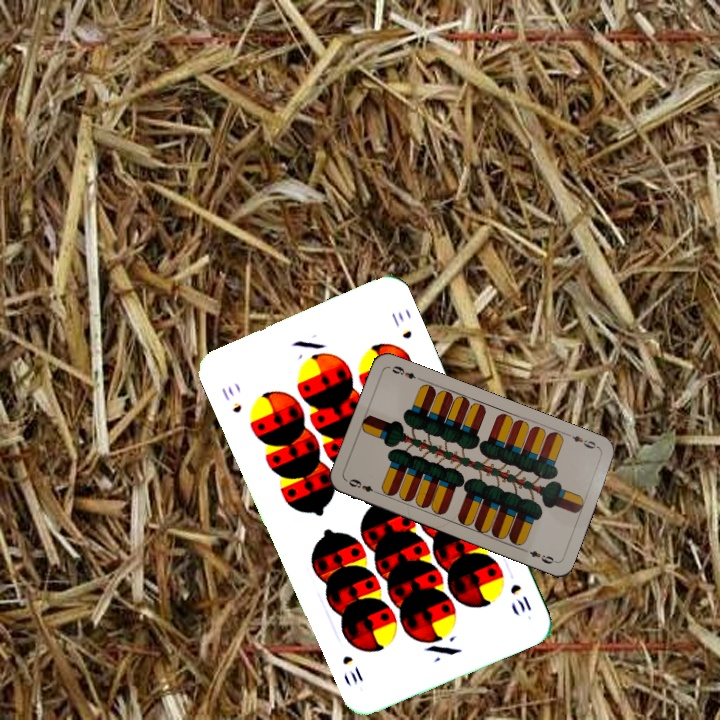E9: (343, 475, 382, 497), (563, 430, 602, 451)
S10: (506, 579, 534, 615), (217, 382, 245, 416)
